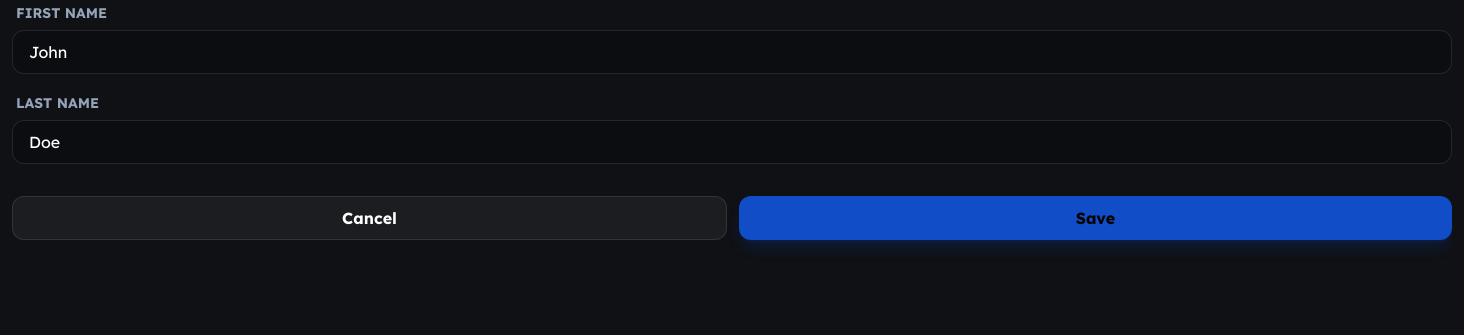
Test: ProfileEditForm › shows error message on API failure
What coordinates should you click on to do the following:
click the button "Save"
I would click on:
 (1096, 218)
Its box is 739,196 -> 1452,240.
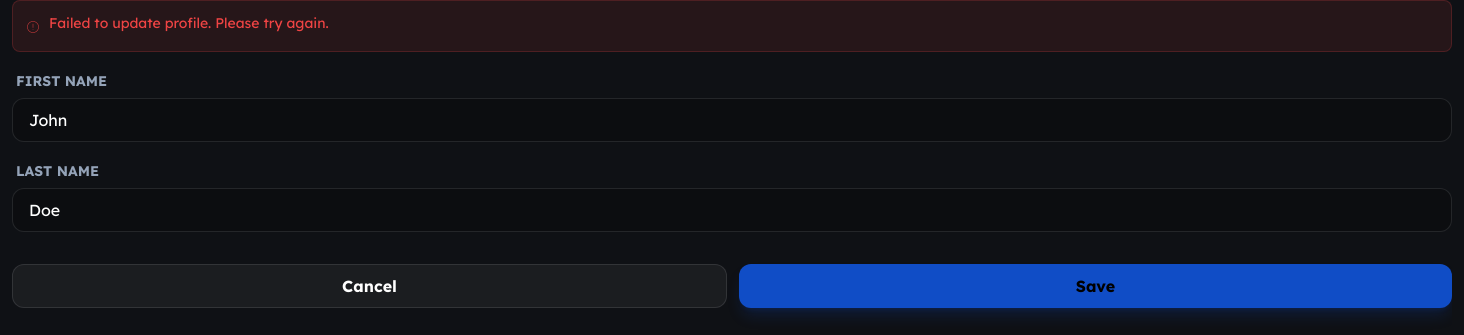
Expected: the text "Failed to update profile. Please try again." is shown, 12,0 -> 1452,52
